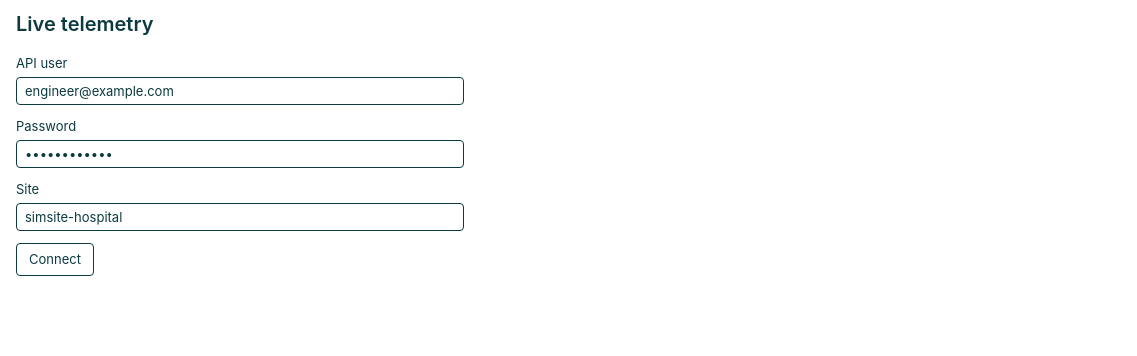
Scenario: Live page (G2) › shows a helpful error when the API is unreachable
Step 1. Click the button "Connect" → (55, 260), box x1=16 y1=243 x2=94 y2=276
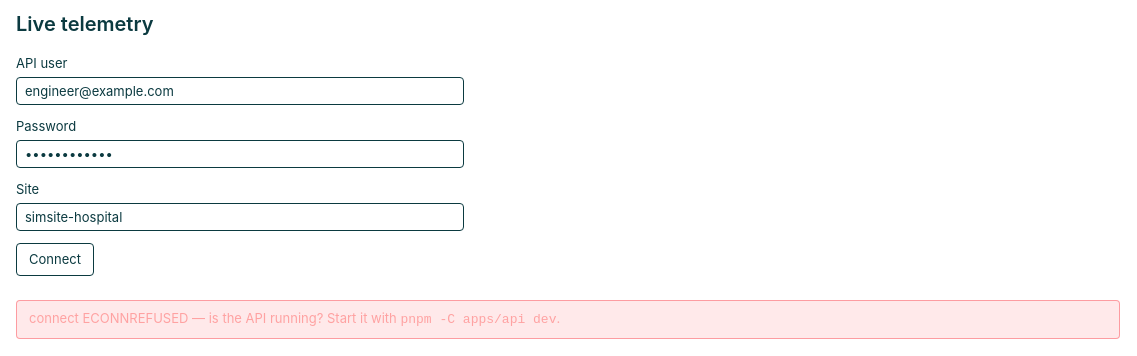
Expected: the text "connect ECONNREFUSED" is shown, x1=29 y1=310 x2=188 y2=326
Expected: the text "is the API running" is shown, x1=188 y1=310 x2=400 y2=326
